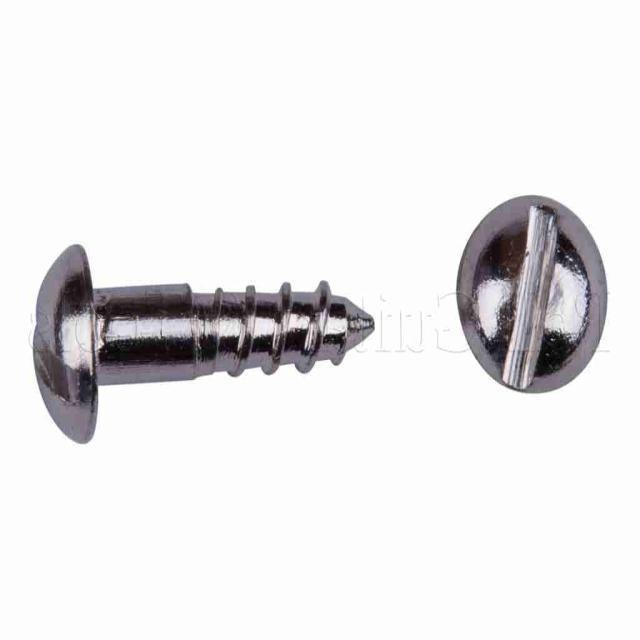duz: (455, 192, 609, 393)
